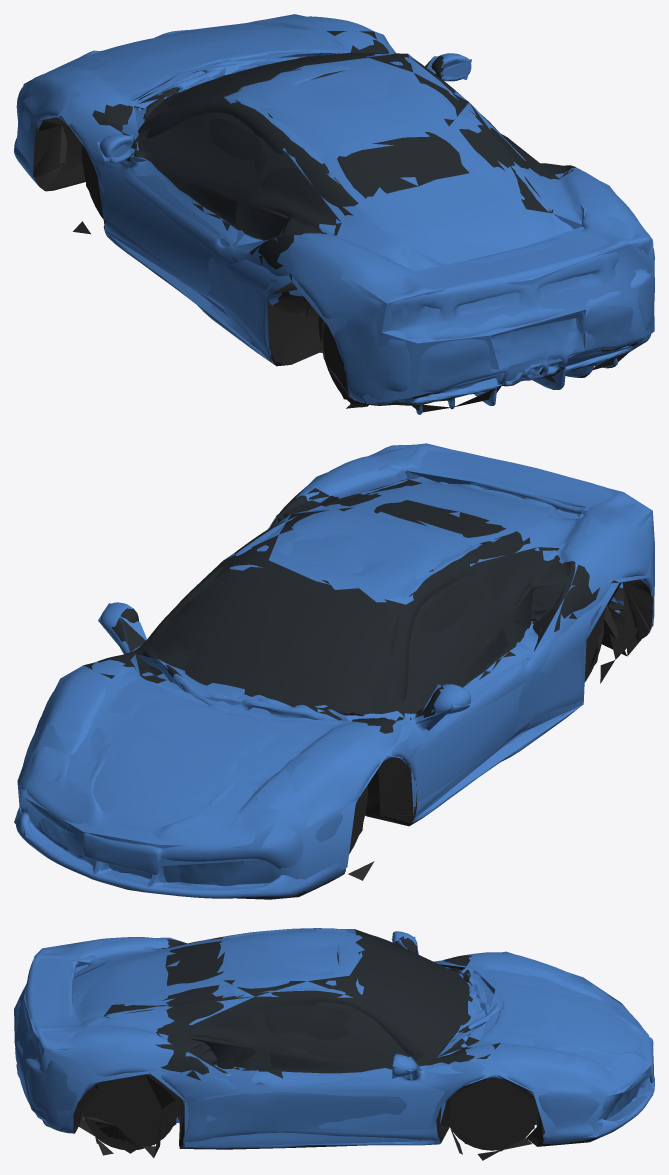
The model's file is ferrari-488-gtb.glb.
3 renders of one model, top to bottom at view 1: azimuth 30°, elevation 25°; view 2: azimuth 150°, elevation 25°; view 3: azimuth 270°, elevation 25°, orthographic. The views are drawn at different scales.
Parts seen in each view (by area): view 1: body, far; view 2: body, far; view 3: body, far.
Part boxes in pixels (x1,y1,x2,y2): body: [14, 16, 654, 414]; far: [16, 14, 654, 412]; body: [16, 444, 654, 899]; far: [14, 443, 654, 894]; body: [14, 928, 654, 1160]; far: [14, 928, 653, 1157].
Size of the model in its own units: 2.34 by 1.25 by 4.64.
